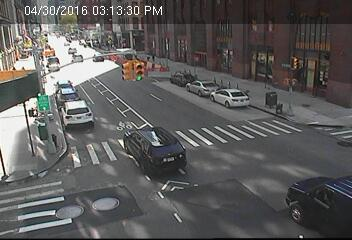neg: (150, 132, 183, 176), (28, 123, 58, 163), (87, 121, 116, 160), (187, 187, 215, 224), (11, 71, 39, 107), (249, 110, 274, 143), (253, 166, 277, 198), (222, 80, 245, 110), (47, 195, 67, 222), (274, 75, 294, 101), (327, 54, 346, 79), (128, 58, 146, 83), (172, 65, 190, 89), (104, 191, 121, 215), (199, 32, 216, 55), (63, 32, 80, 54), (14, 32, 30, 54)
